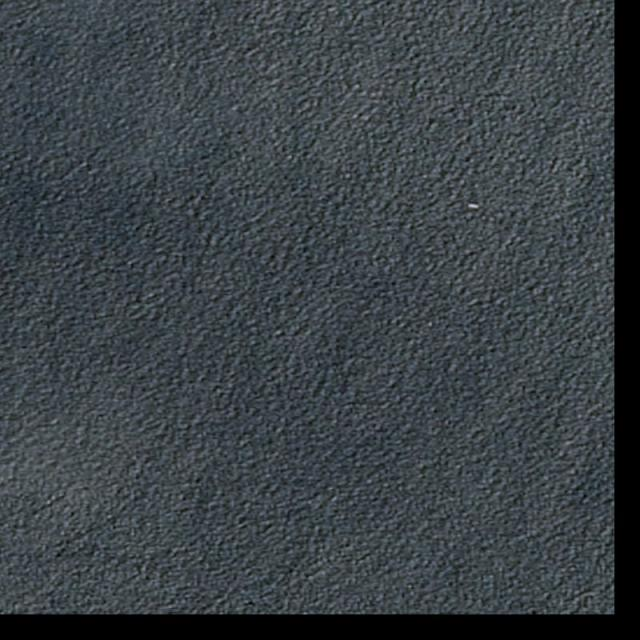ship: (466, 202, 479, 210)
